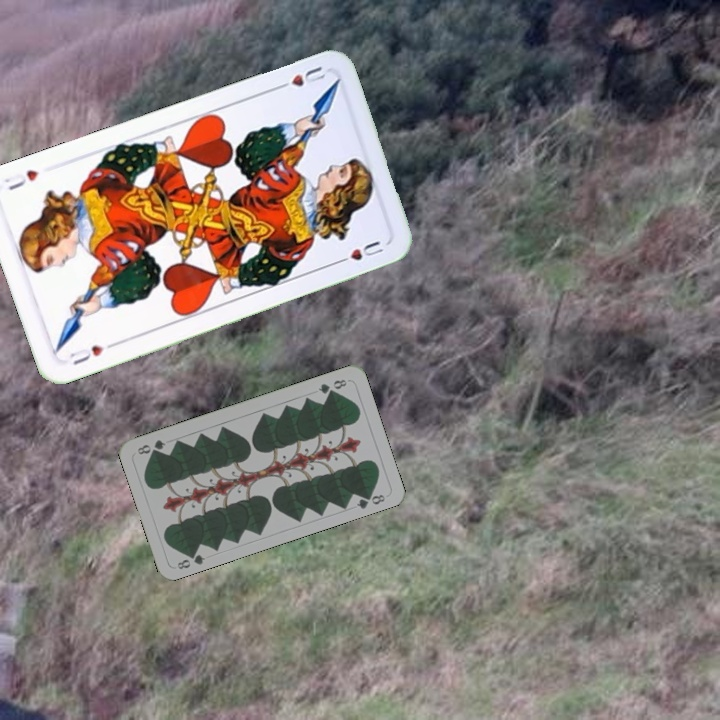G8: (173, 547, 208, 572), (314, 375, 349, 397)
HU: (272, 62, 328, 92), (65, 338, 118, 368)
